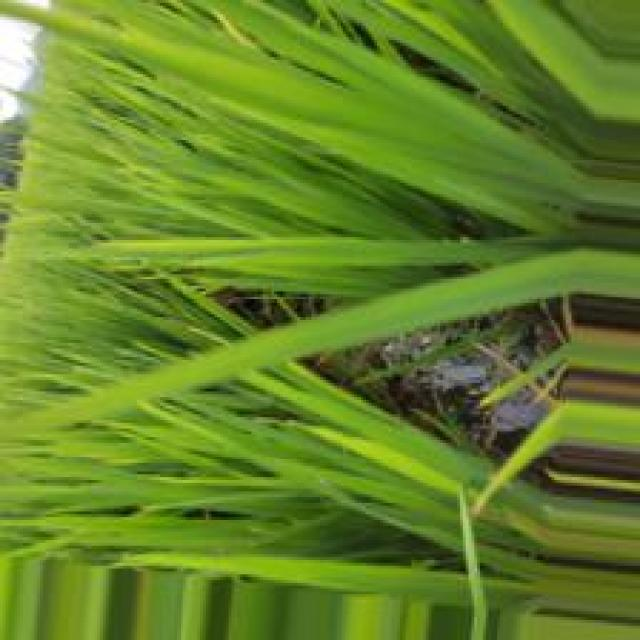HealthyLeaf: (5, 245, 640, 444)
